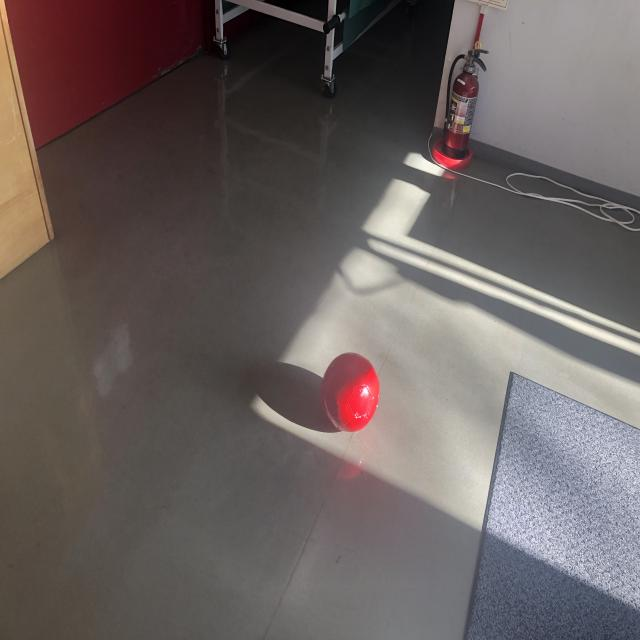red_ball: (322, 352, 381, 432)
